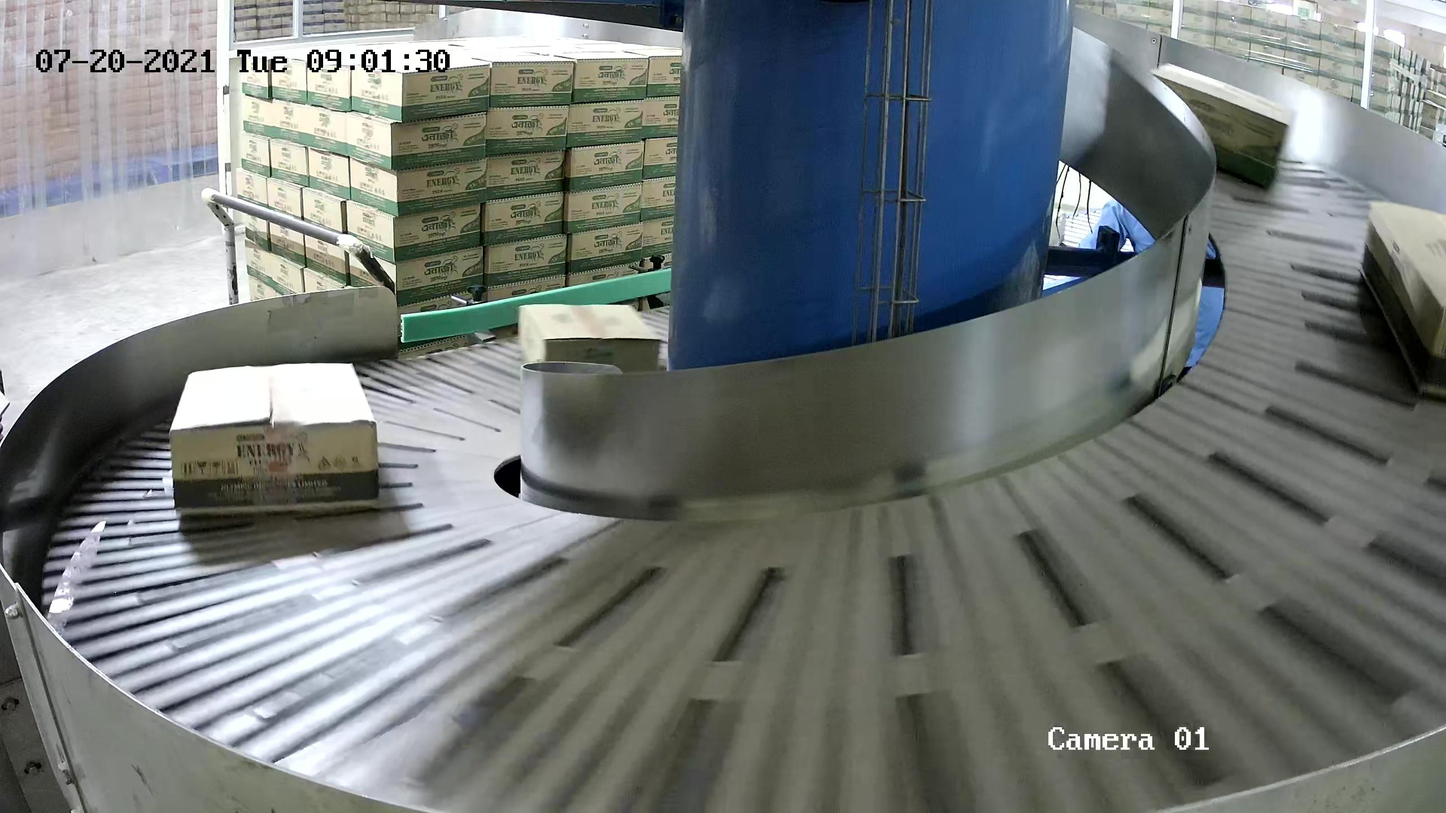Box: (168, 361, 382, 515), (1145, 61, 1295, 191), (1358, 199, 1446, 398)
